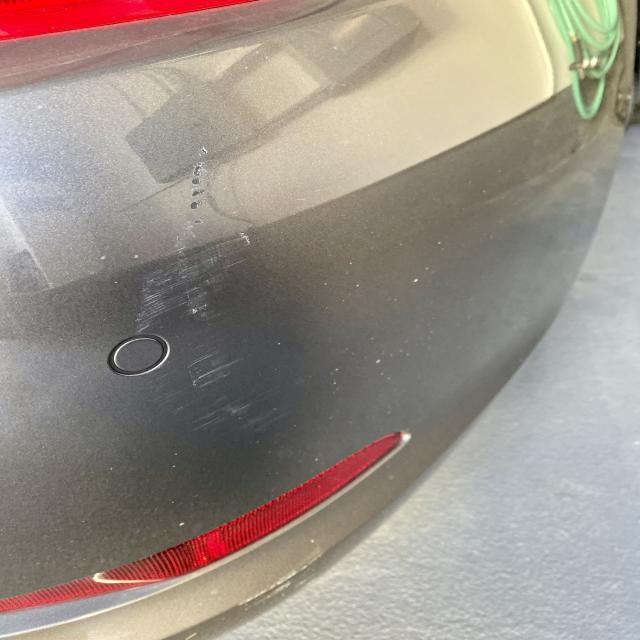scratch: (127, 139, 283, 441)
